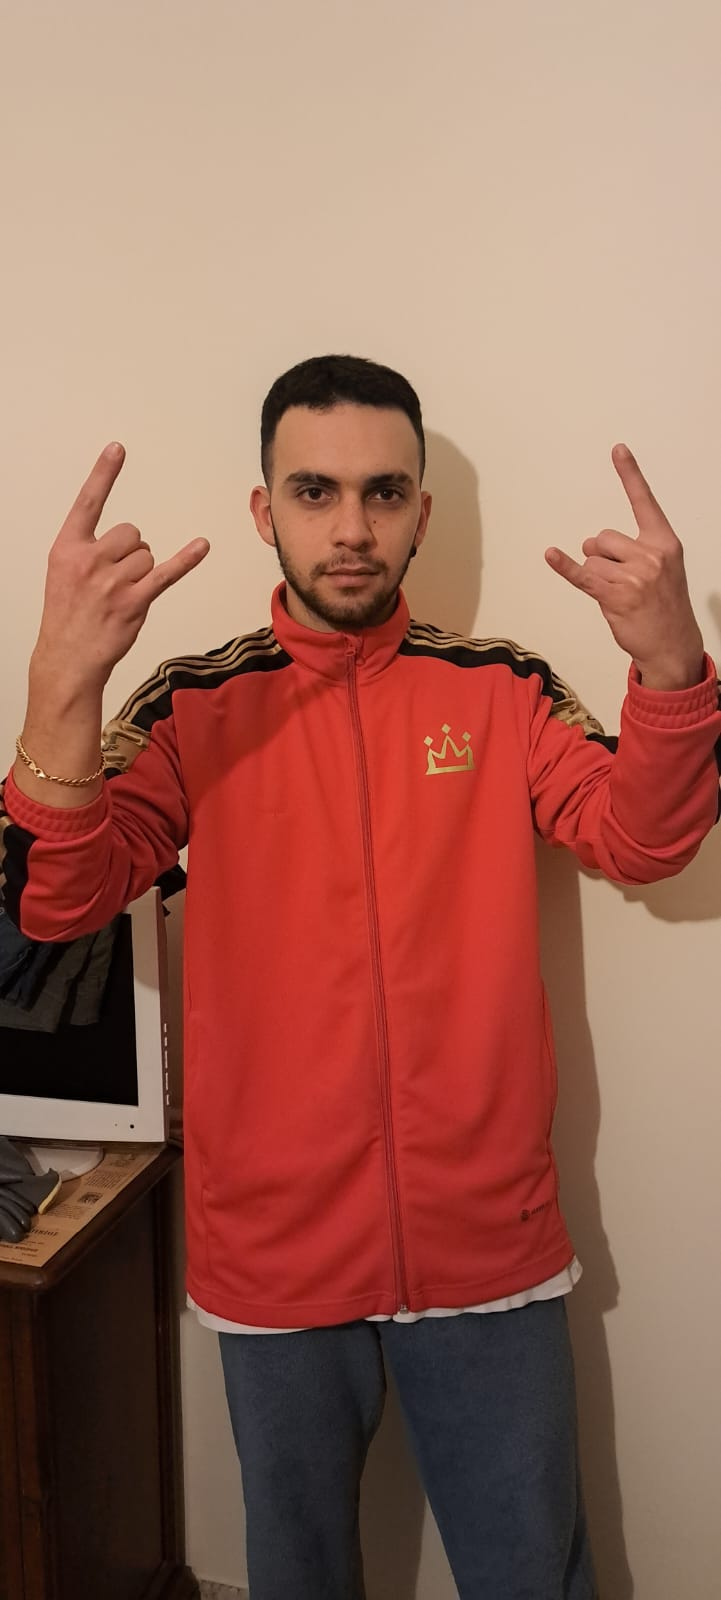rock: (49, 434, 703, 649)
